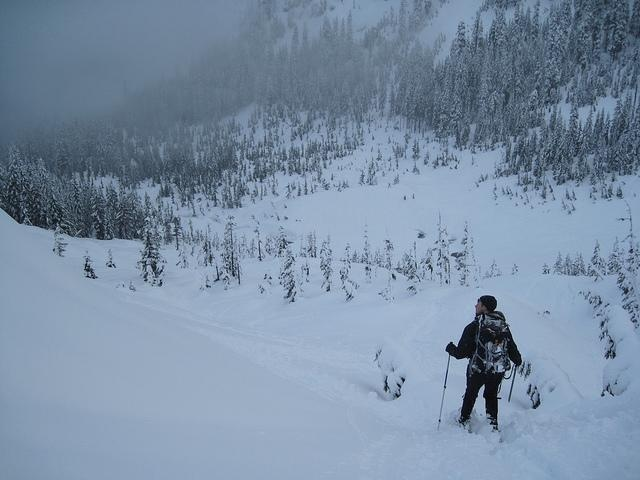person: (445, 295, 525, 430)
